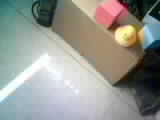duck: (111, 13, 143, 51)
